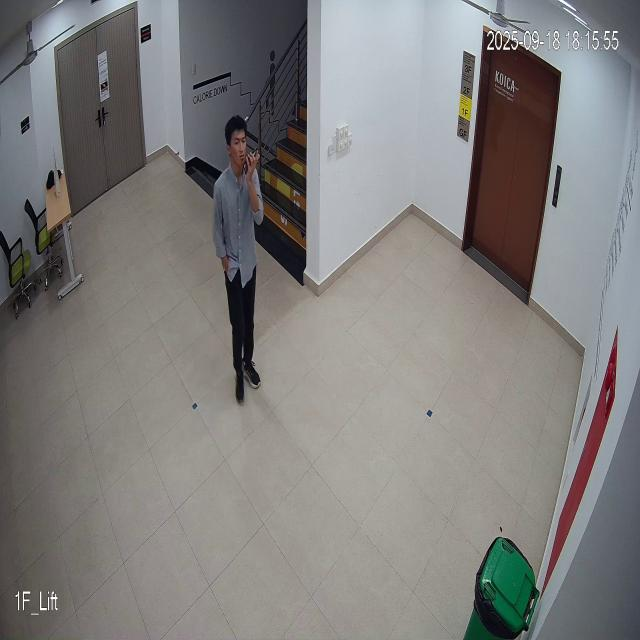face: (225, 111, 249, 169)
